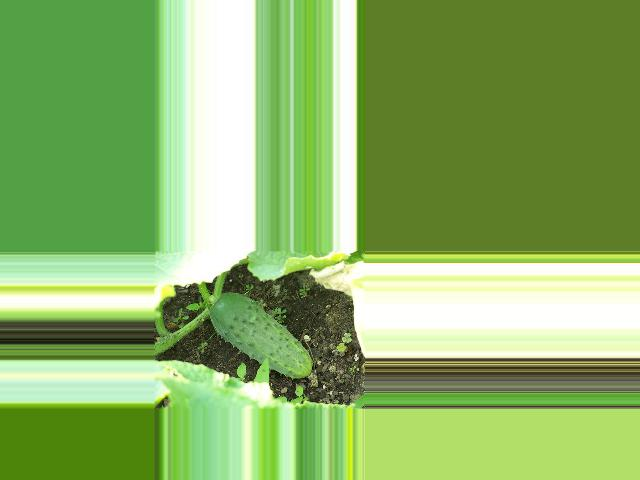cucumber: (208, 292, 312, 378)
